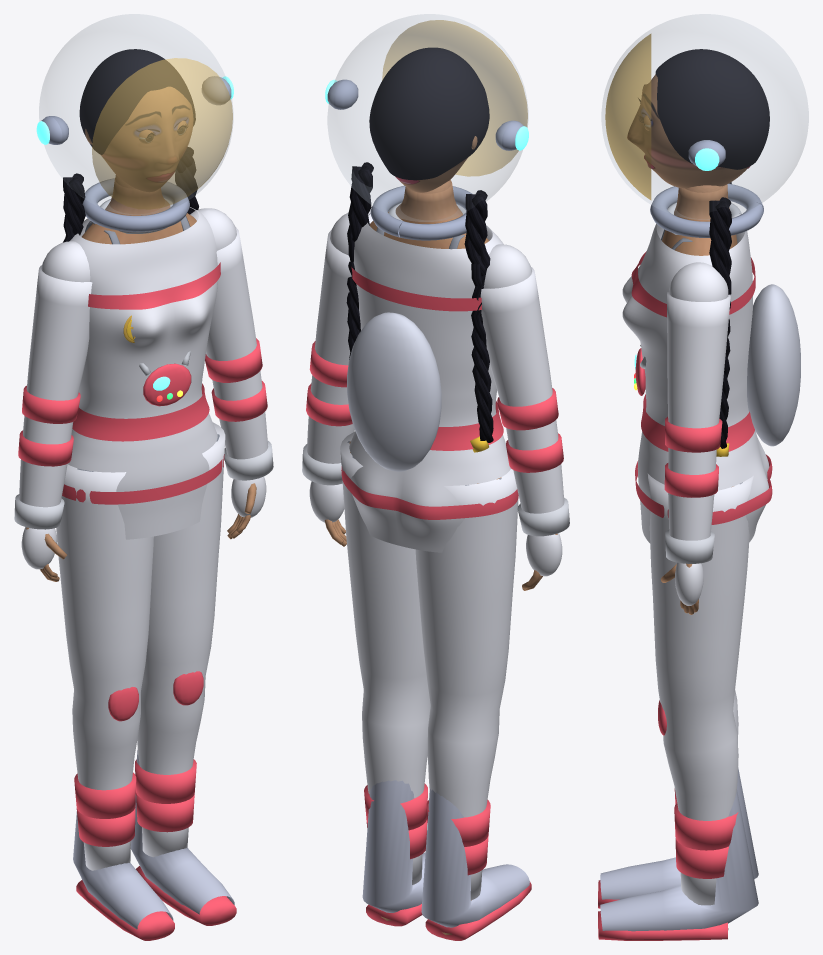
File: panenka-astronaut.glb
The picture shows the model from 3 angles, left to right: view 1: azimuth 30°, elevation 25°; view 2: azimuth 150°, elevation 25°; view 3: azimuth 270°, elevation 25°; orthographic projection. The views are drawn at different scales.
Visible parts, largest first — view 1: suit, suit_leg, suit_leg.001, visor, helmet_glass, suit_sleeve, suit_sleeve.001, hair_cap, head_skin, shoe.001, shoe, band (+25 smaller); view 2: suit_leg, suit, suit_leg.001, helmet_glass, hair_cap, backpack, suit_sleeve, shoe, visor, shoe.001, suit_sleeve.001, helmet_ring (+28 smaller); view 3: suit_leg.001, helmet_glass, suit, suit_sleeve.001, hair_cap, backpack, shoe.001, visor, head_skin, shoe, helmet_ring, torso (+17 smaller).
Part boxes in pixels (x1,y1,x2,y2): suit: [68, 207, 217, 539]; suit_leg: [56, 464, 153, 870]; suit_leg.001: [137, 422, 225, 857]; visor: [92, 58, 232, 209]; helmet_glass: [39, 14, 233, 214]; suit_sleeve: [19, 265, 92, 507]; suit_sleeve.001: [206, 227, 268, 459]; hair_cap: [79, 49, 195, 154]; head_skin: [101, 87, 193, 191]; shoe.001: [130, 750, 234, 914]; shoe: [73, 811, 173, 929]; band: [72, 383, 209, 441]; suit_leg: [415, 468, 518, 900]; suit: [349, 209, 510, 552]; suit_leg.001: [340, 431, 430, 884]; helmet_glass: [327, 14, 528, 221]; hair_cap: [369, 47, 489, 180]; backpack: [347, 312, 441, 471]; suit_sleeve: [480, 267, 564, 513]; shoe: [421, 788, 529, 927]; visor: [382, 20, 527, 176]; shoe.001: [362, 780, 425, 912]; suit_sleeve.001: [307, 229, 354, 463]; helmet_ring: [370, 185, 472, 240]; suit_leg.001: [647, 473, 753, 905]; helmet_glass: [601, 14, 808, 219]; suit: [622, 223, 769, 543]; suit_sleeve.001: [667, 291, 730, 540]; hair_cap: [655, 49, 769, 169]; backpack: [747, 284, 800, 446]; shoe.001: [600, 789, 758, 931]; visor: [605, 34, 651, 199]; head_skin: [627, 74, 747, 188]; shoe: [600, 767, 758, 899]; helmet_ring: [650, 183, 763, 237]; torso: [662, 184, 737, 255].
Size of the model in its own units: 0.623 by 2.05 by 0.4365.
26 materials, 5 textured.
